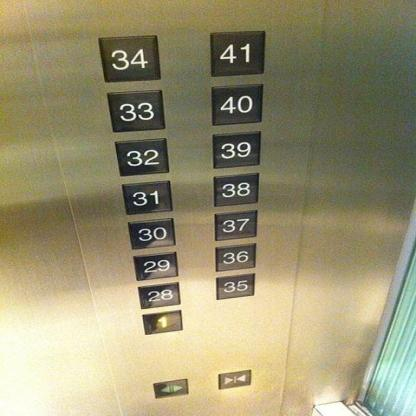1: (140, 310, 183, 335)
28: (137, 282, 179, 310)
29: (132, 251, 178, 282)
30: (126, 218, 175, 249)
31: (119, 180, 172, 215)
32: (112, 138, 169, 176)
33: (105, 89, 164, 134)
34: (97, 34, 161, 82)
35: (215, 272, 255, 300)
36: (213, 242, 256, 272)
37: (212, 207, 258, 241)
38: (212, 172, 261, 208)
39: (210, 128, 262, 170)
40: (210, 83, 262, 125)
41: (210, 30, 264, 78)
close: (218, 369, 252, 390)
open: (152, 378, 189, 398)
